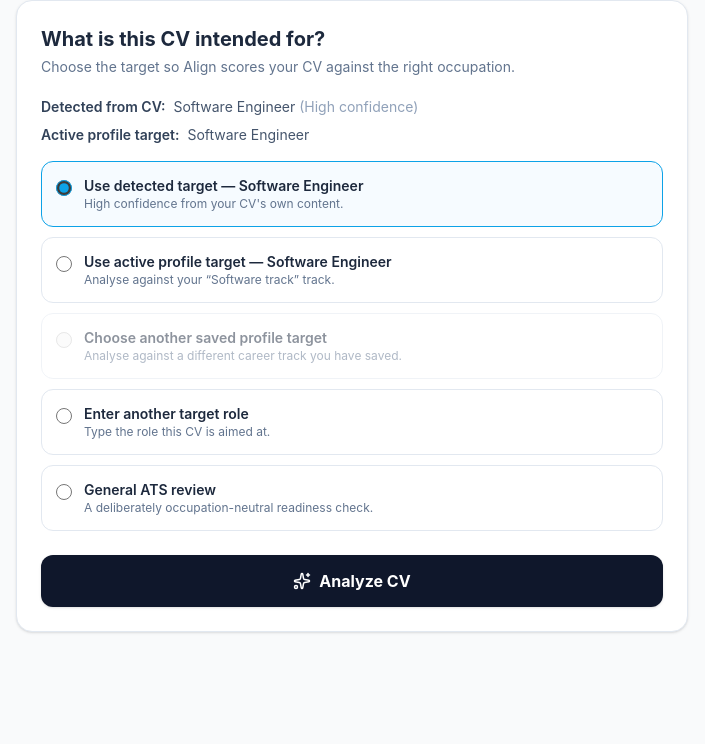
Test: TargetSelectionStep — custom role › validates the custom role client-side and blocks an invalid one
The image size is (705, 744).
Click the radio button labelled "Enter another target role Type the role this CV is aimed at.". click: (64, 416)
box: [56,408,72,424]
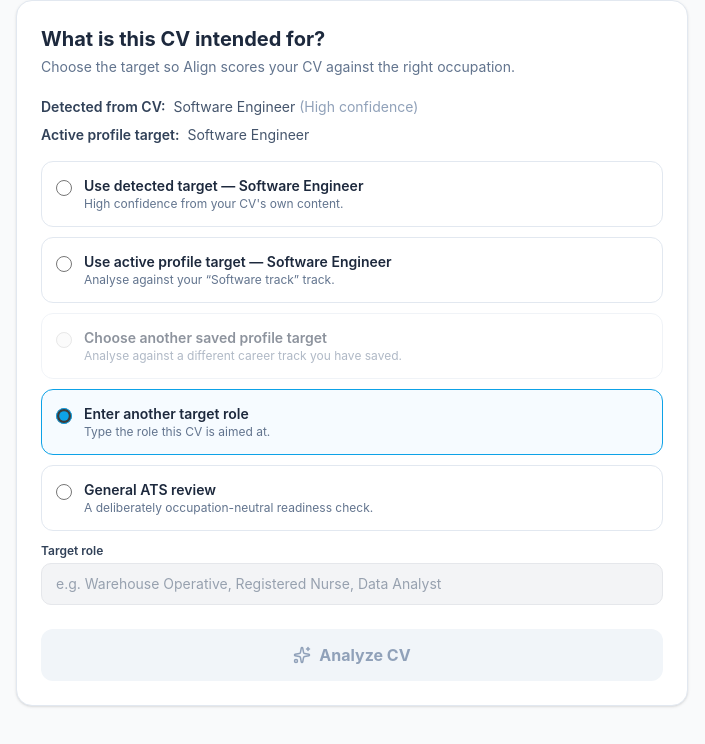
Type "123" into the field labelled "Target role". click: (352, 584)
box: [41,563,663,605]
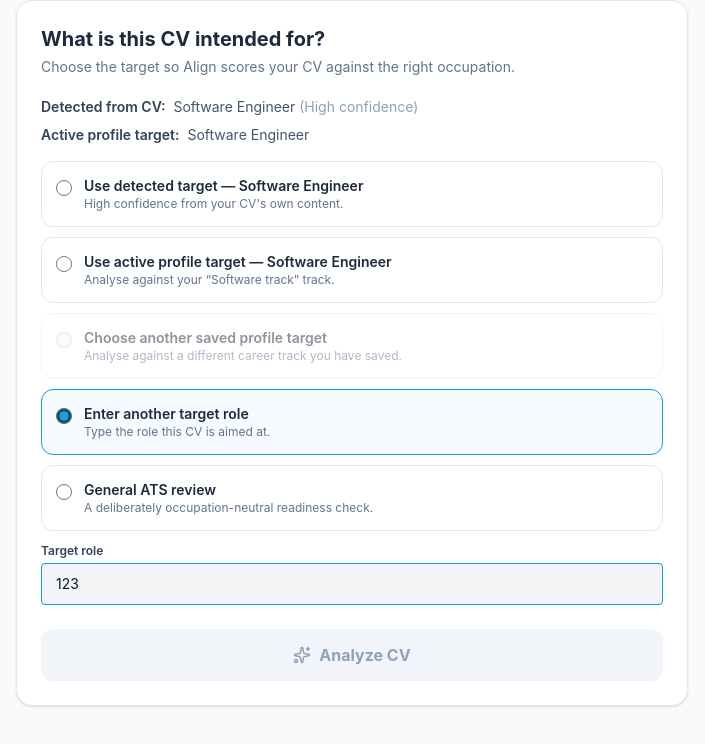
Press Tab
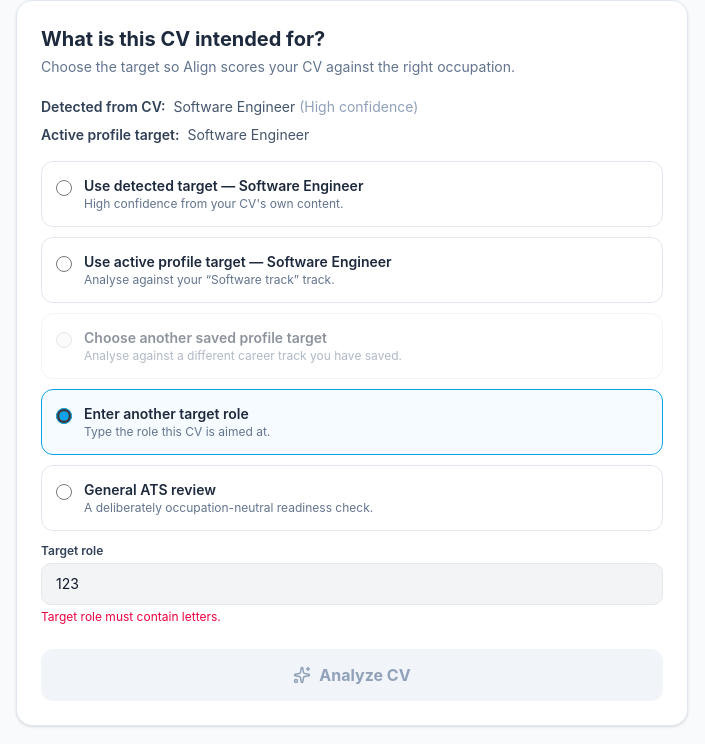
expect the button "Analyze CV" is disabled: met, box [41,649,663,701]
expect the message shows "must contain letters": met, box [41,609,221,624]
